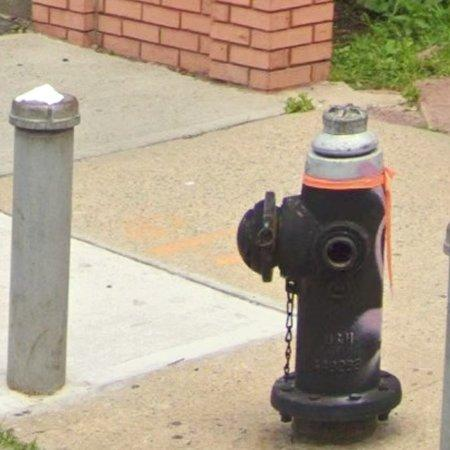a fire hydrant: (237, 104, 402, 442)
